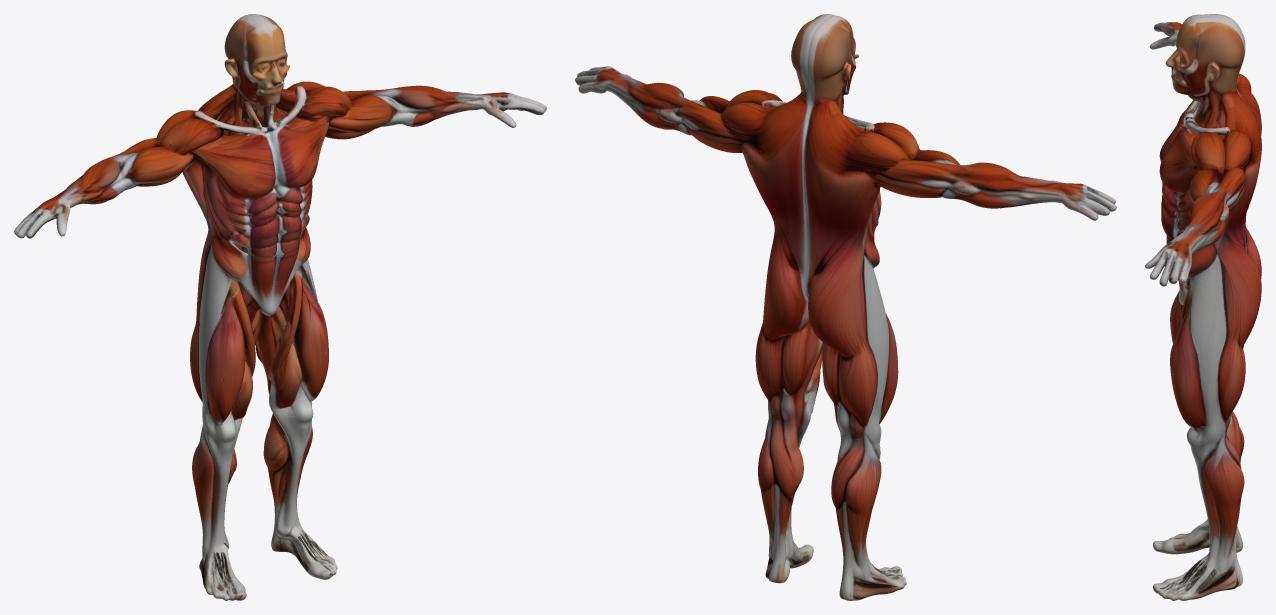
The model's file is body.glb.
3 renders of one model, left to right at view 1: azimuth 30°, elevation 25°; view 2: azimuth 150°, elevation 25°; view 3: azimuth 270°, elevation 25°, orthographic. The views are drawn at different scales.
Parts seen in each view (by area): view 1: tripo_node_f1347294-26fa-4bc5-b67b-886c449ac41f; view 2: tripo_node_f1347294-26fa-4bc5-b67b-886c449ac41f; view 3: tripo_node_f1347294-26fa-4bc5-b67b-886c449ac41f.
Boxes of the visible parts, x1=… form: tripo_node_f1347294-26fa-4bc5-b67b-886c449ac41f: x1=14, y1=14, x2=546, y2=600; tripo_node_f1347294-26fa-4bc5-b67b-886c449ac41f: x1=575, y1=14, x2=1116, y2=600; tripo_node_f1347294-26fa-4bc5-b67b-886c449ac41f: x1=1145, y1=14, x2=1261, y2=600.
Size of the model in its own units: 0.9984 by 1 by 0.1904.
Materials: 1 (1 with a texture image).
